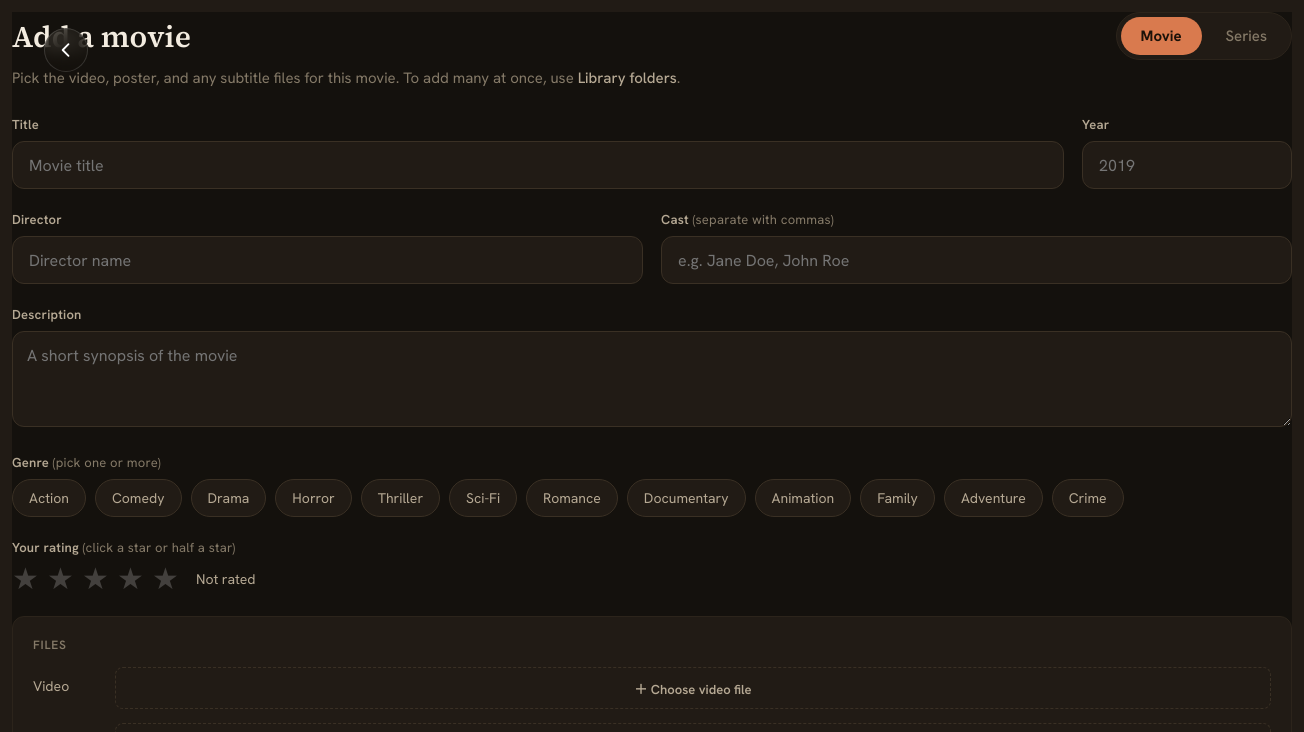
MovieForm — the fields › the Year field › keeps the digits and drops everything else
Type "19a5" into the field labelled "Year" at (1187, 165), box [1097,142,1277,188]
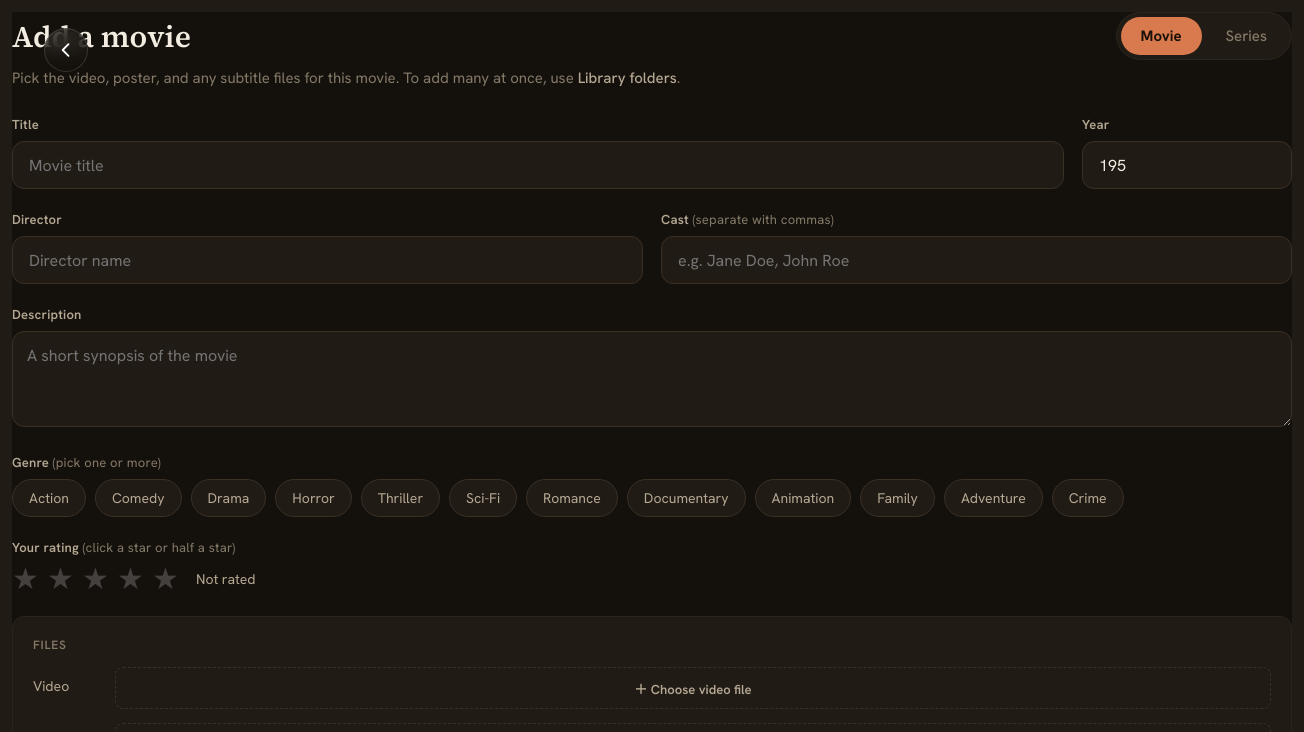
Now the field labelled "Year" holds "195", box [1097,142,1277,188]
